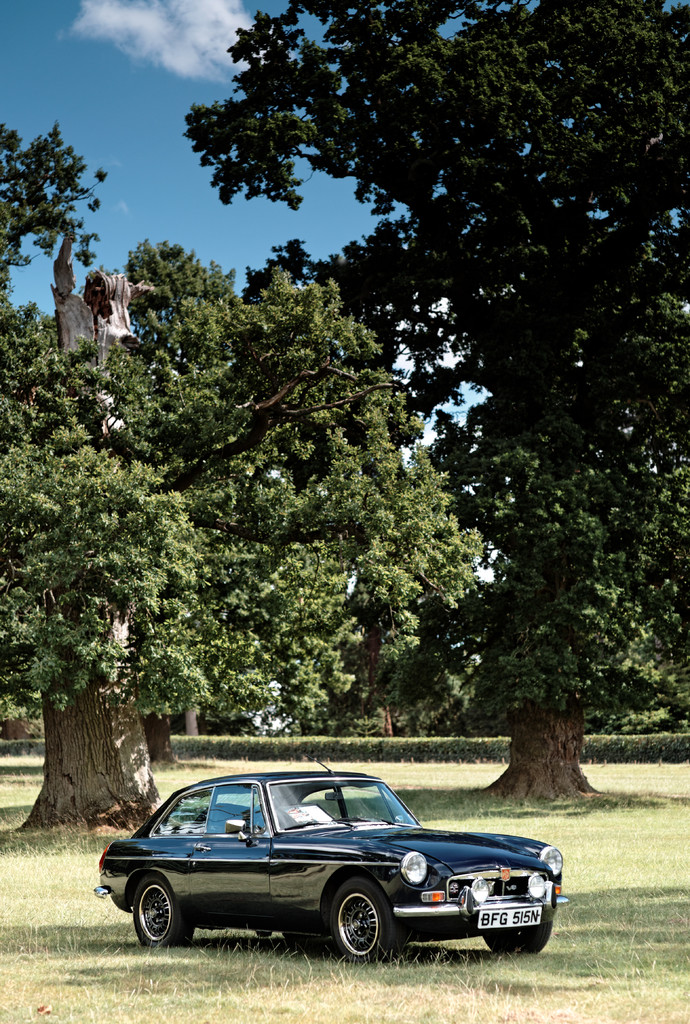Car: (94, 755, 572, 967)
